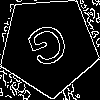G: (24, 21, 75, 78)
